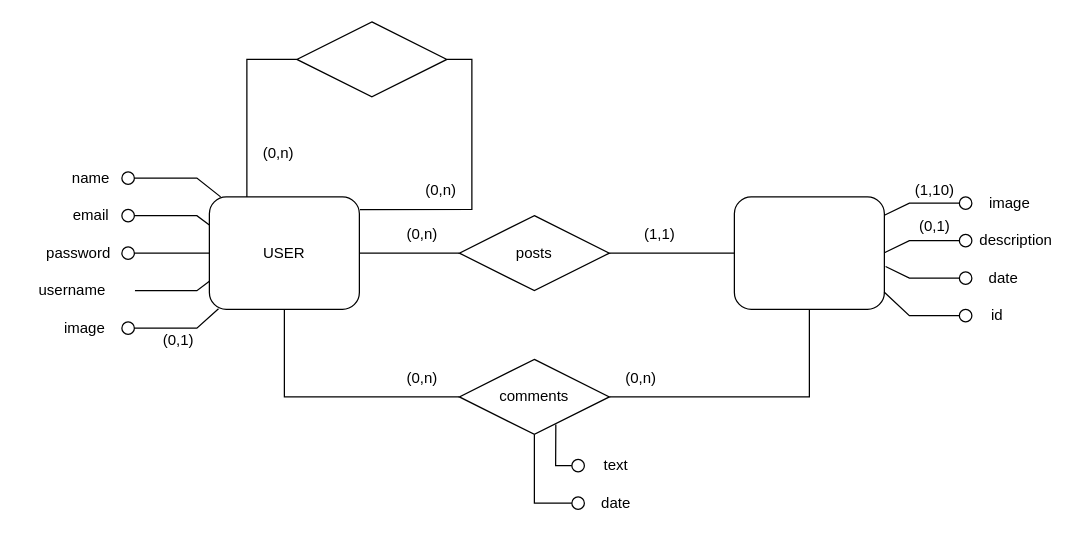
The diagram is 1086 pixels wide and 544 high, and some of its shapes have lost their labels. Each missing label, with the centre of its shape:
"follows" goes at (x=371, y=59).
"POST" goes at (x=808, y=252).
